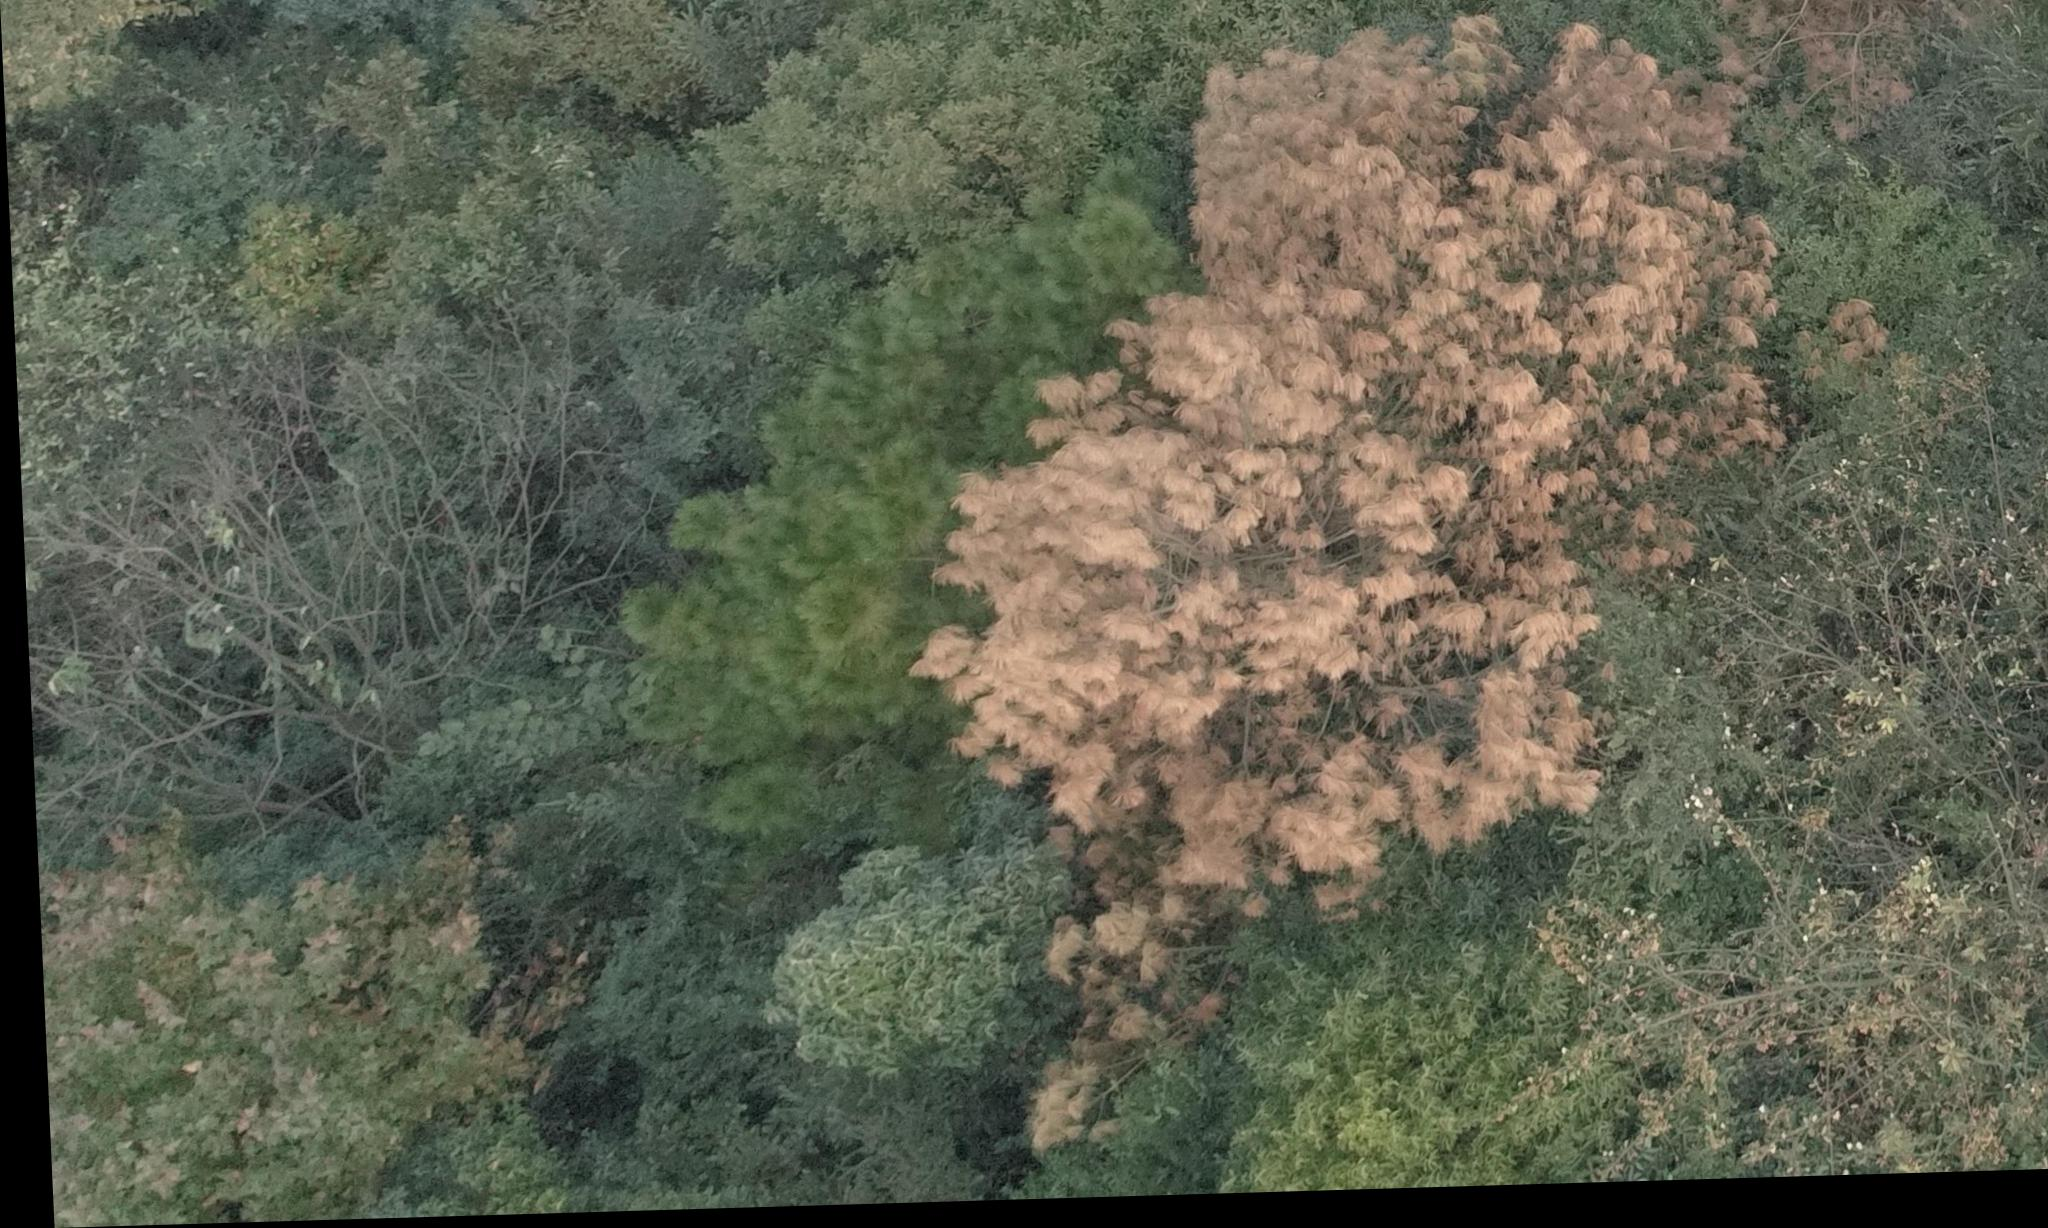heavy: (893, 50, 1791, 1010)
